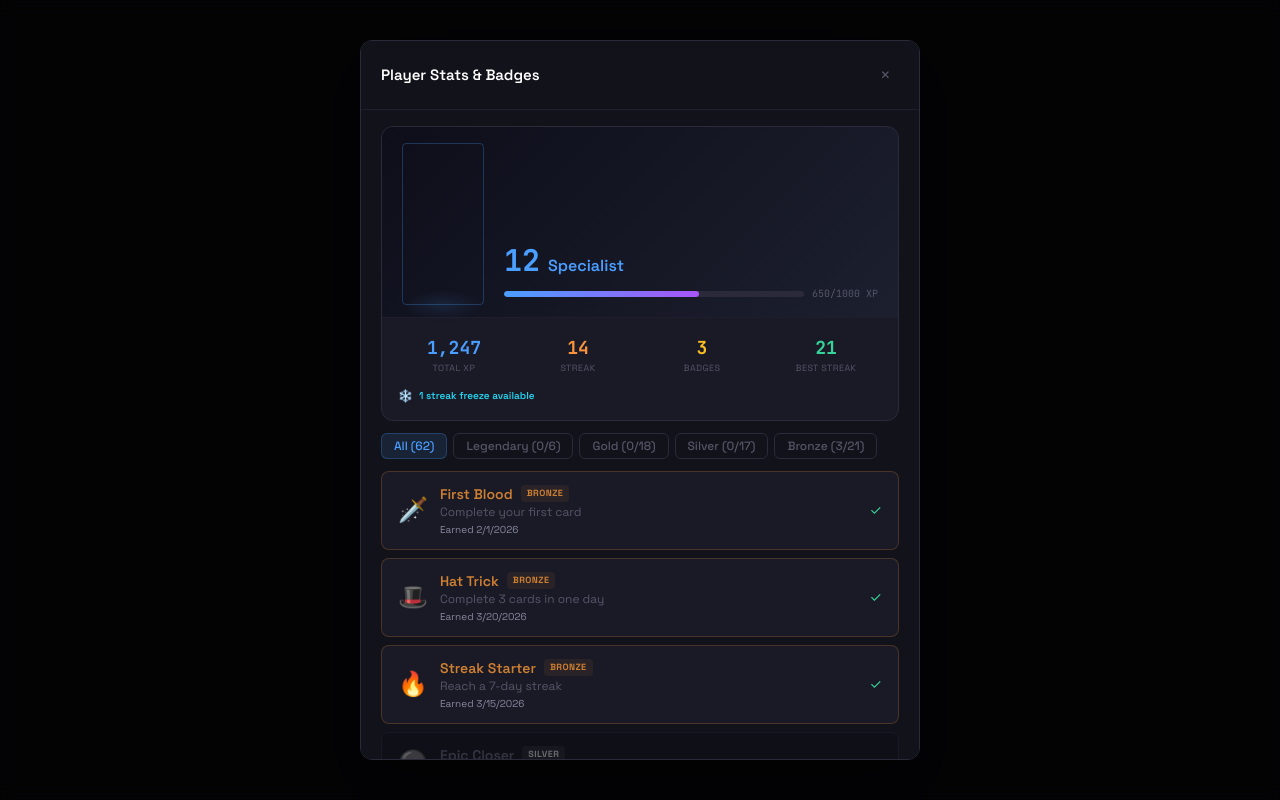
BadgePanel › filters badges by tier
Click the button "gold (0/18)" at (624, 446), box x1=580 y1=432 x2=668 y2=458
(page scrolled)
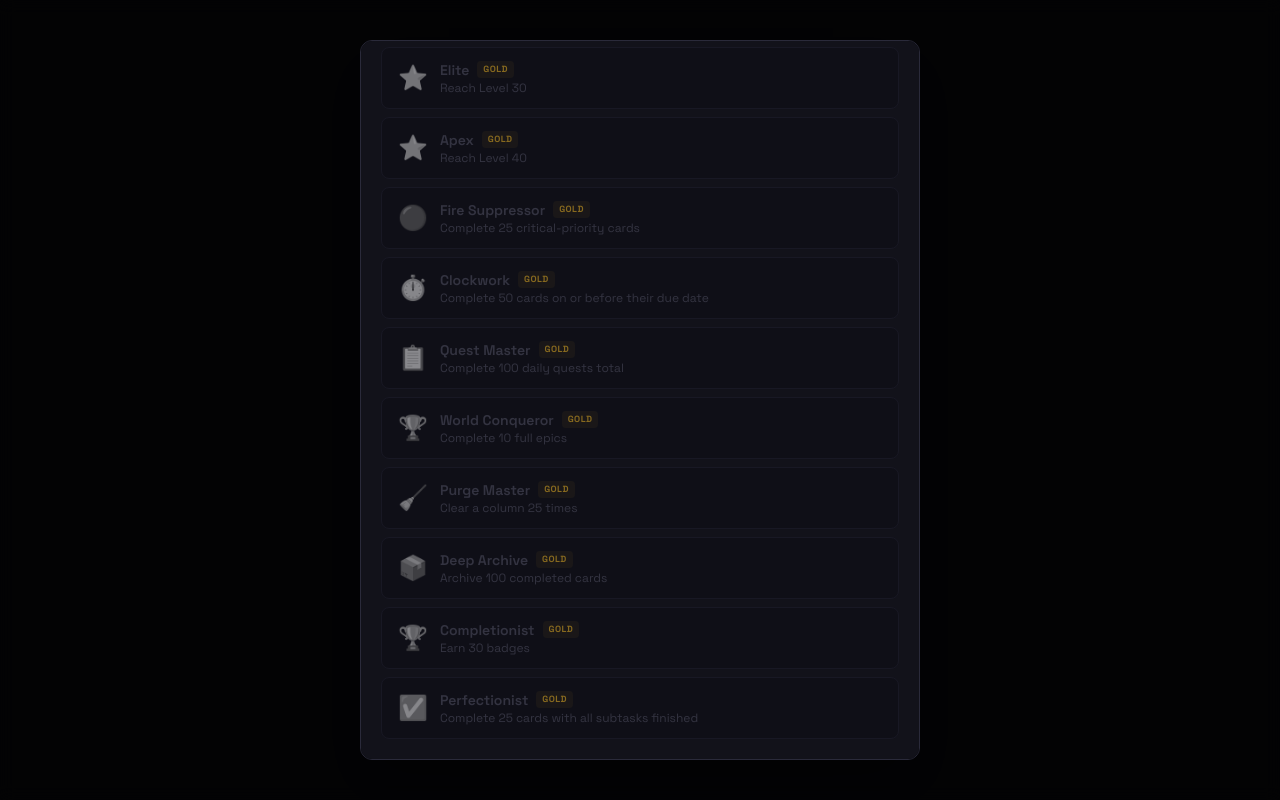
Now the text "Elite" is shown, box x1=440 y1=60 x2=469 y2=80
Now the text "Apex" is shown, box x1=440 y1=130 x2=474 y2=150
Now the text "Fire Suppressor" is shown, box x1=440 y1=200 x2=545 y2=220
